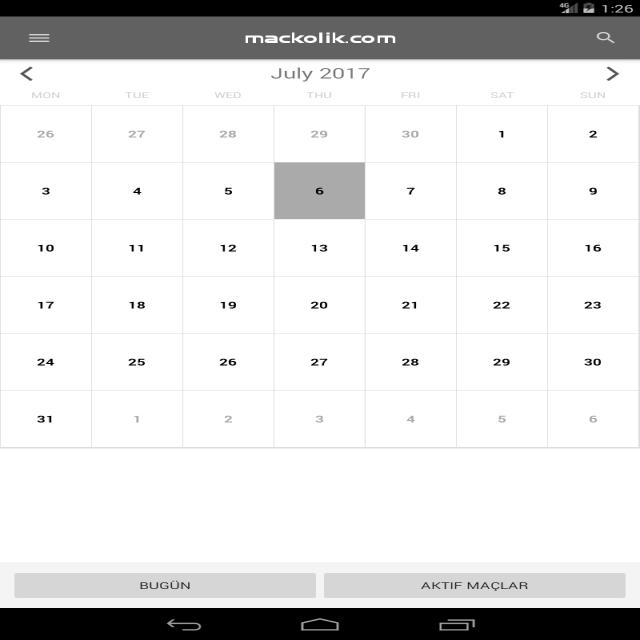Button: (6, 570, 317, 604), (323, 569, 632, 603)
ImageButton: (6, 60, 52, 84), (18, 28, 66, 48), (590, 62, 628, 86), (586, 27, 626, 48)
TextView: (237, 27, 408, 48), (265, 62, 383, 81), (22, 355, 72, 379), (212, 240, 258, 262), (296, 178, 334, 200), (396, 406, 427, 430), (486, 350, 519, 372), (214, 128, 246, 144)
